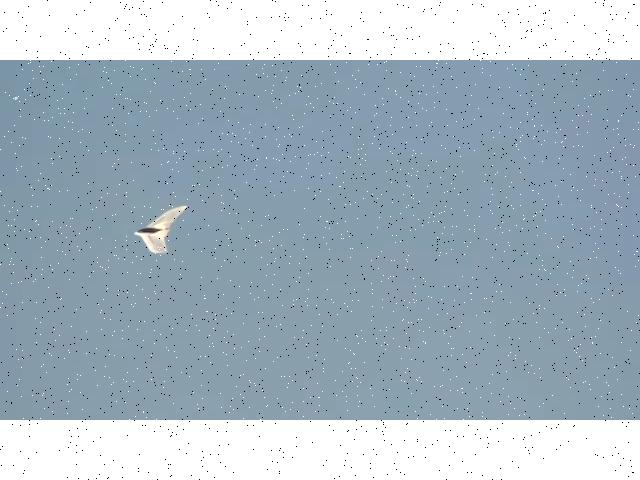Anti-Drone: (136, 205, 186, 251)
